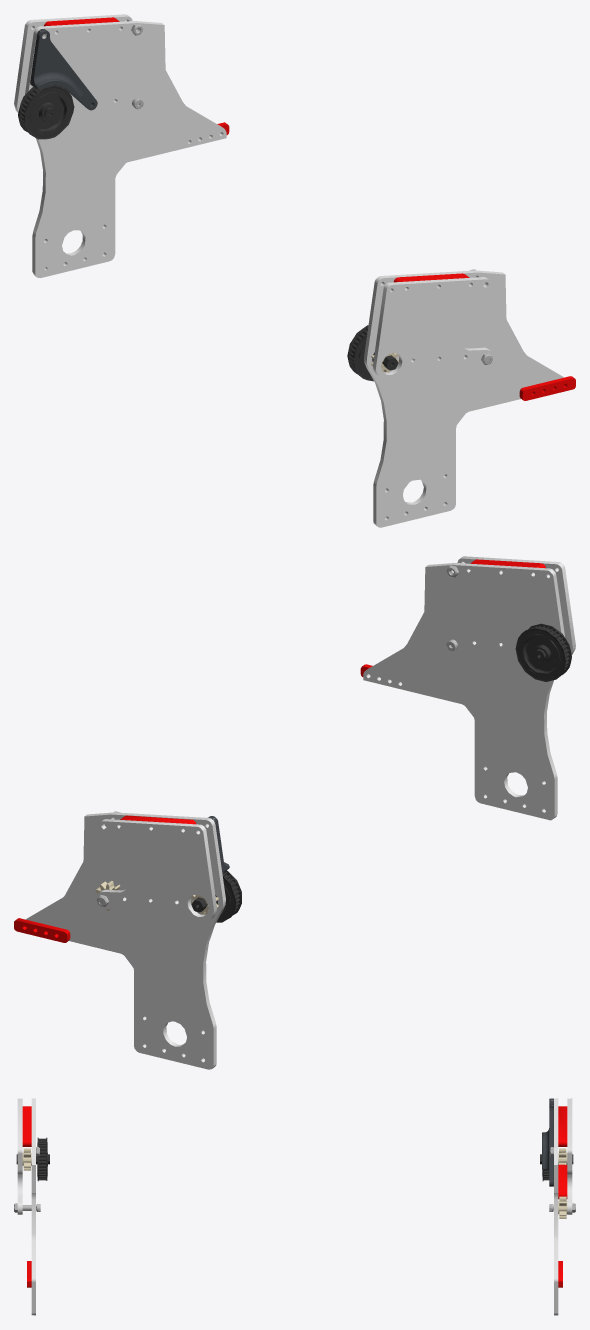
The model's file is 1114-mount.glb.
3 renders of one model, top to bottom at view 1: azimuth 30°, elevation 25°; view 2: azimuth 150°, elevation 25°; view 3: azimuth 270°, elevation 25°, orthographic. The views are drawn at different scales.
Parts seen in each view (by area): view 1: S26-IN-P318, S26-IN-P018, Part 47, S26-IN-P011; view 2: S26-IN-P318, S26-IN-P018, S26-IN-P011; view 3: S26-IN-P318, S26-IN-P011, Part 47, S26-IN-P018, 10t Aluminum Spur Gear (10 DP, 1/2" Hex Bore), Part 2.
Part boxes in pixels (x1,y1,x2,y2): S26-IN-P318: [14, 14, 563, 527]; S26-IN-P018: [18, 86, 398, 381]; Part 47: [30, 29, 97, 110]; S26-IN-P011: [44, 17, 575, 400]; S26-IN-P318: [26, 556, 575, 1069]; S26-IN-P018: [191, 623, 571, 922]; S26-IN-P011: [14, 559, 545, 942]; S26-IN-P318: [17, 1098, 572, 1315]; S26-IN-P011: [22, 1106, 567, 1287]; Part 47: [542, 1098, 553, 1186]; S26-IN-P018: [16, 1137, 573, 1181]; 10t Aluminum Spur Gear (10 DP, 1/2" Hex Bore): [22, 1148, 567, 1218]; Part 2: [14, 1098, 575, 1212].
Size of the model in its own units: 0.2573 by 0.2843 by 0.759.
